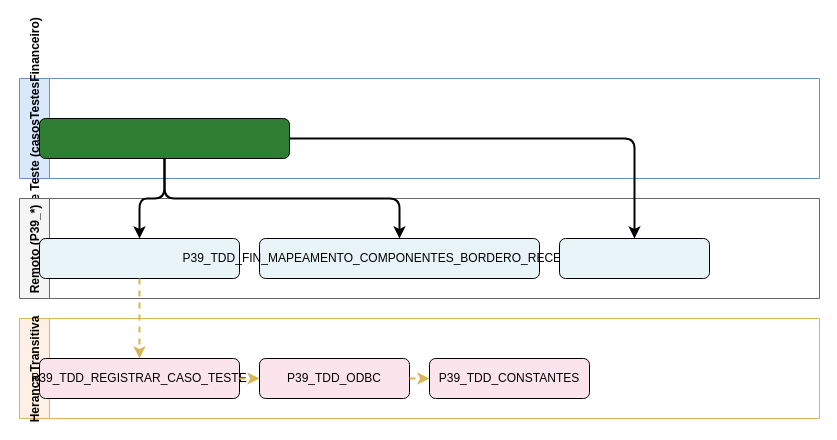
Image size: 837x440. Some labels were removed from this diagram. The centre of each missing label's shape, as x and y in pixels:
"P39_TDD_CARREGAR_CASO_TESTE" goes at point 139,258.
"P39_TDD_FIN_INCLUIR_BORDERO_RECEBIMENTO" goes at point 164,138.
"P39_TDD_FUNCOES_JSON" goes at point 634,258.
